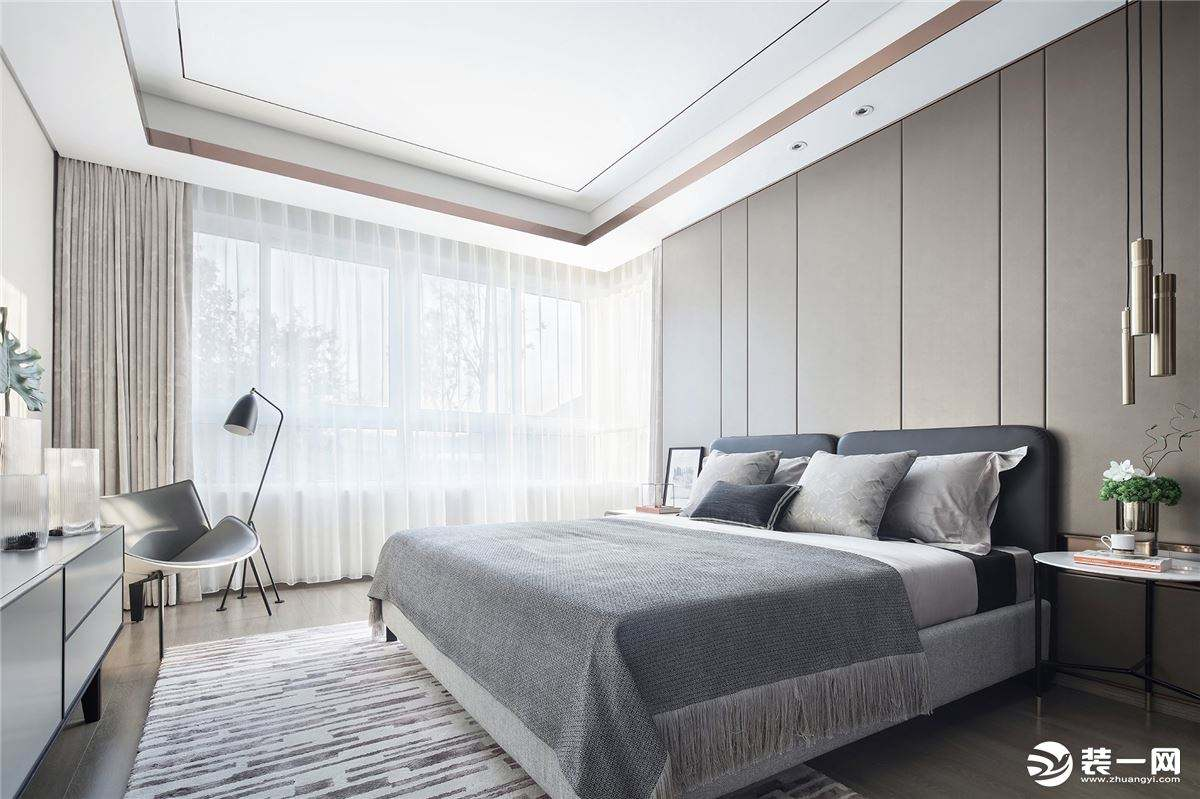床: (367, 510, 1024, 771)
枕头: (670, 437, 1017, 552)
灯: (221, 387, 287, 615), (1105, 243, 1184, 411), (785, 137, 806, 155), (851, 106, 873, 123)
